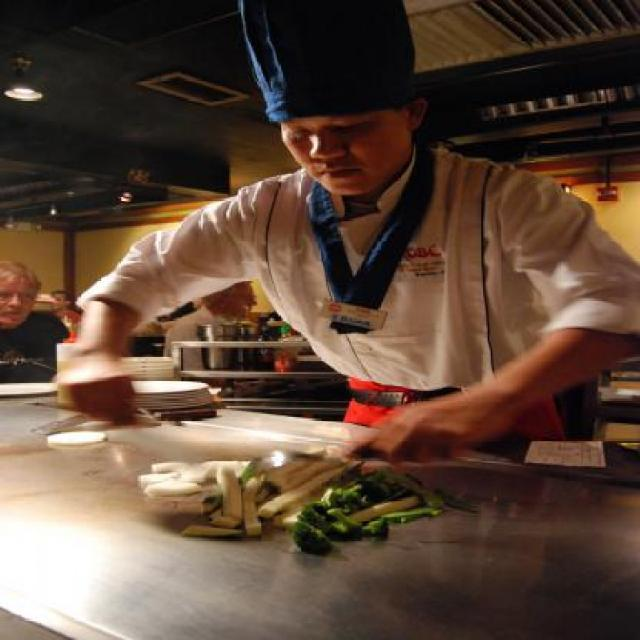Broccoli: (293, 482, 389, 554)
